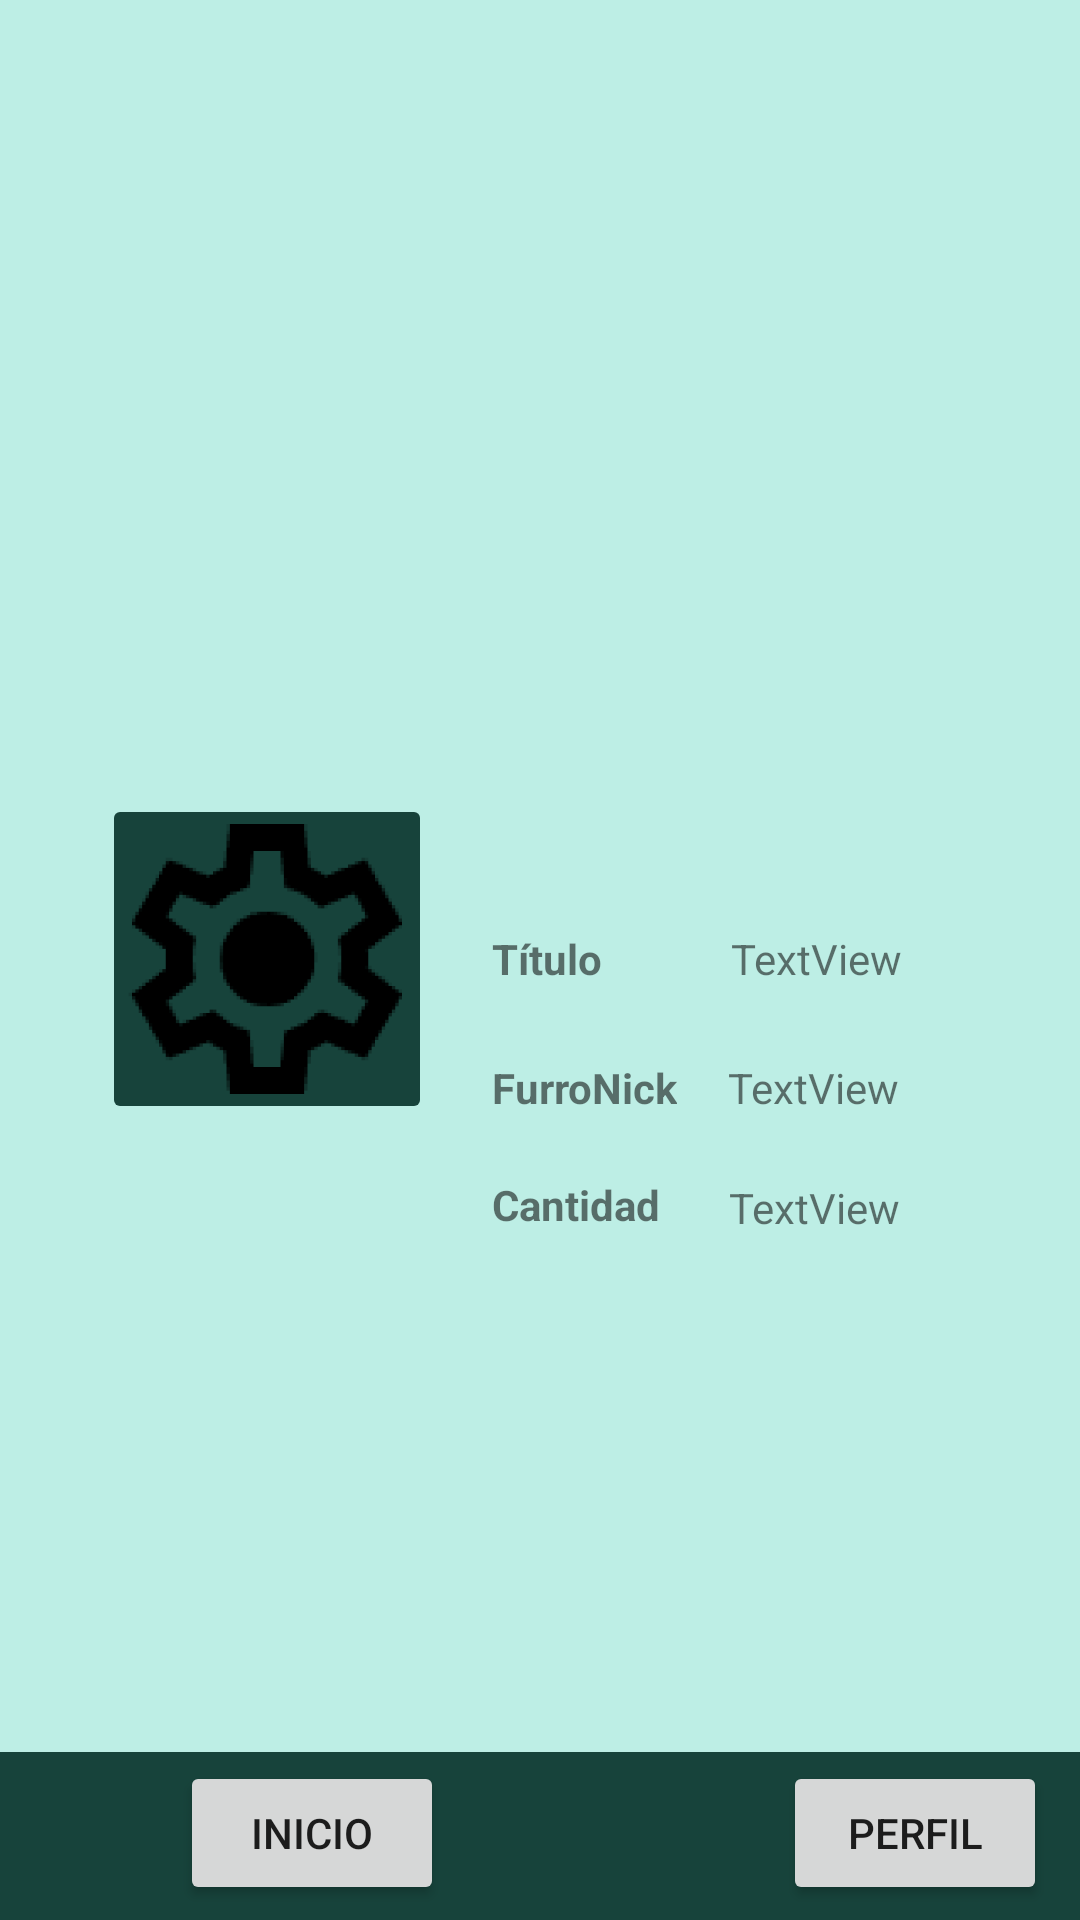

Screen size 1080 x 1920. Icon name, then its box in pixels as rect(x1, y1, x2, y2):
boton ajustes: rect(114, 812, 420, 1106)
